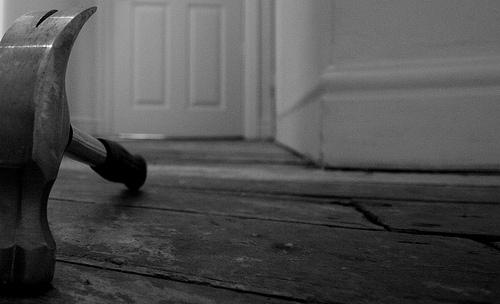hammer: (0, 3, 148, 303)
